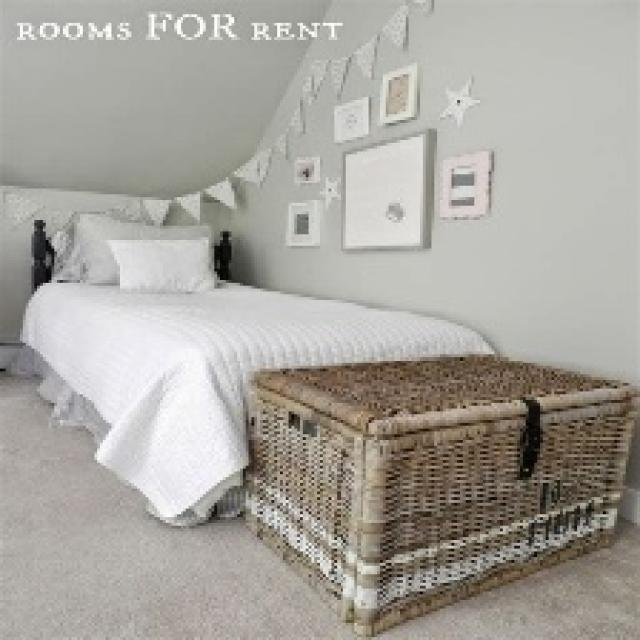Bed: (17, 214, 494, 526)
